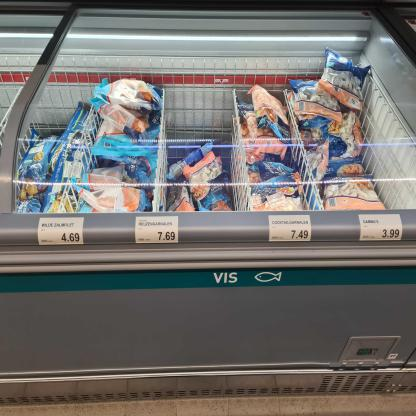prtg: (38, 217, 180, 246)
